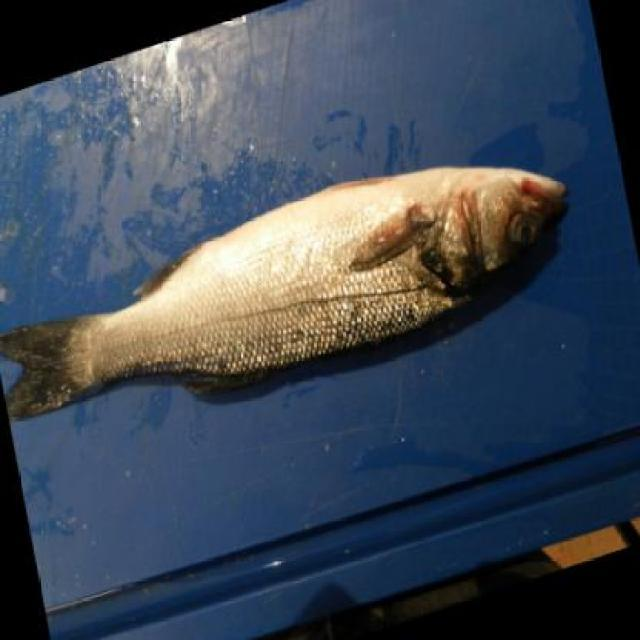Healthy Fish: (0, 169, 577, 421)
